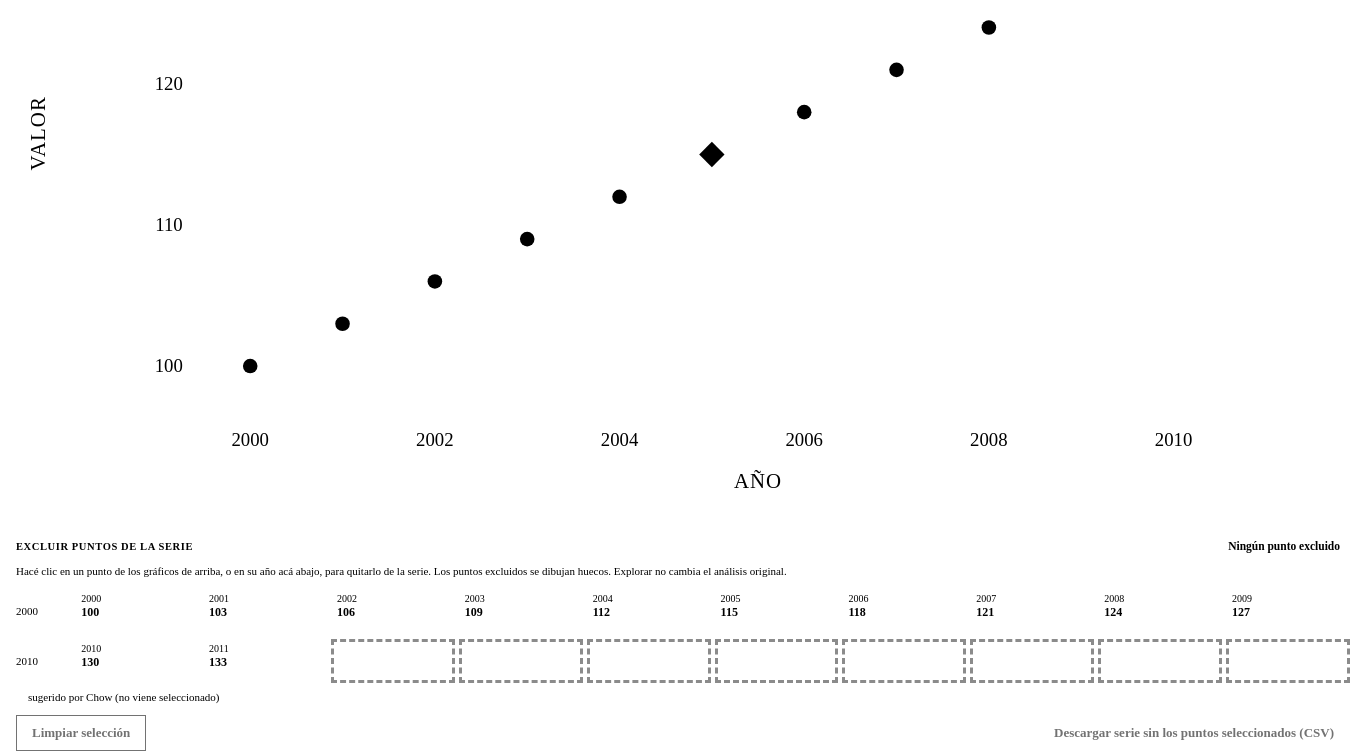
Etapa1GraficosView — exclusión de puntos › carga mensual: lo descargado son máximos anuales
(page scrolled)
Click the button "2000 100": (137, 611) [75,589,199,633]
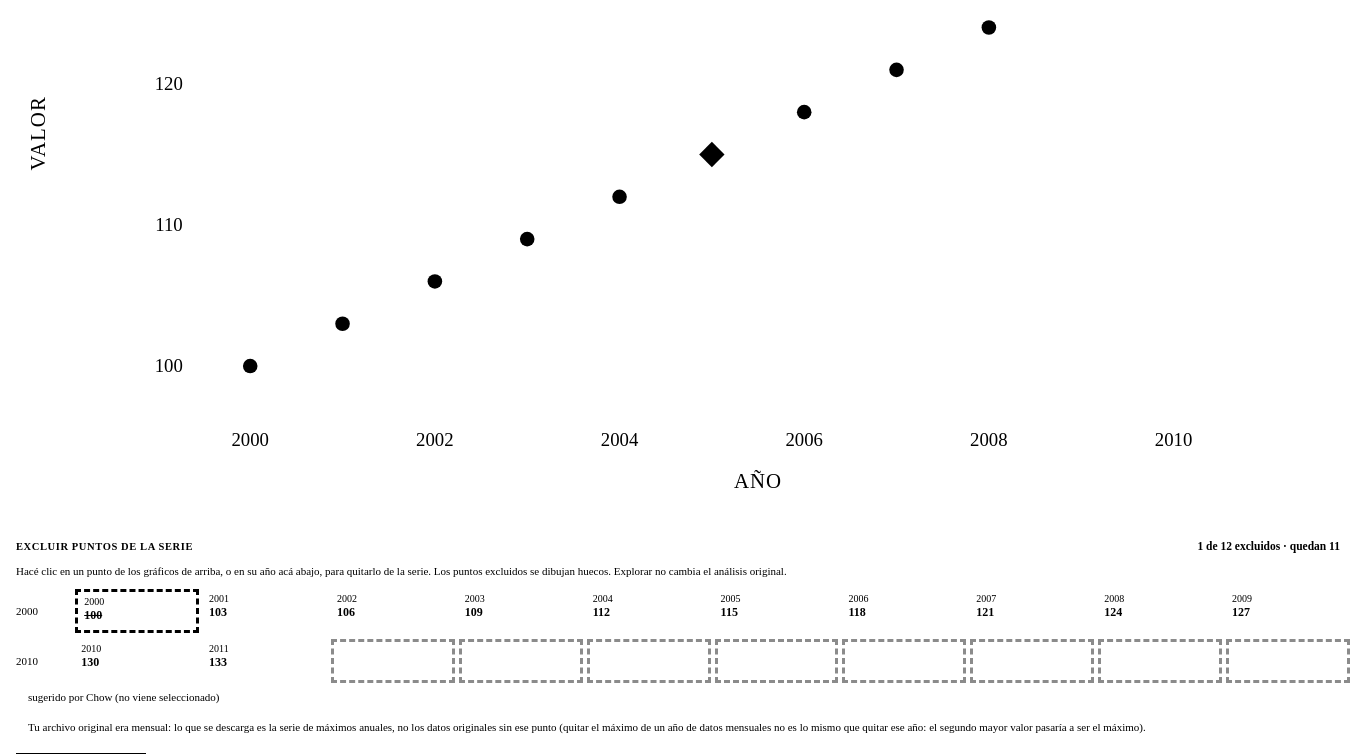
Check: the text "Tu archivo original era mensual" is shown, box [28,721,1146,733]
